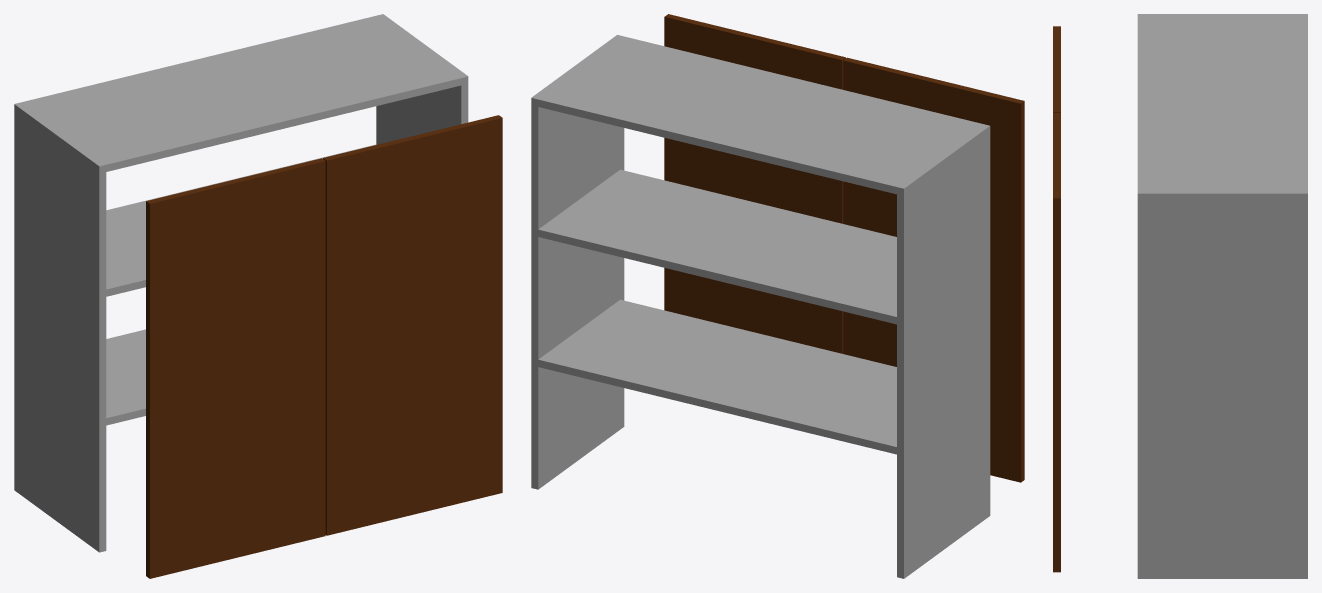
File: meuble_68fb431d8f9f5.glb
3 views of the same model, side by side, from view 1: azimuth 30°, elevation 25°; view 2: azimuth 150°, elevation 25°; view 3: azimuth 270°, elevation 25° (orthographic).
Parts seen in each view (by area): view 1: world; view 2: world; view 3: world.
Part boxes in pixels (x1,y1,x2,y2): world: (14,14,502,578); world: (531,14,1024,578); world: (1053,14,1307,578).
Size of the model in its own units: 1 by 1 by 0.599.
1 material, 1 textured.
